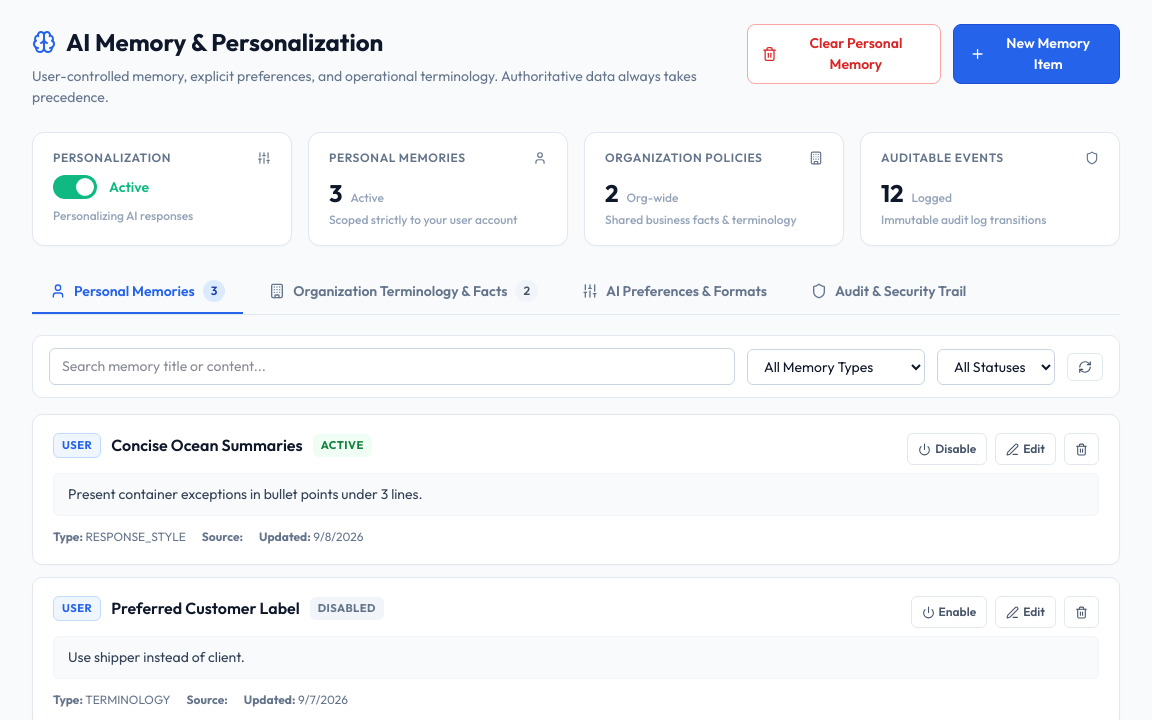
Test: AIMemorySettingsPage Component Tests › allows switching to AI Preferences & Formats tab
expect the heading "Concise Ocean Summaries" is shown: met, box [111,433,303,457]
Click the button "AI Preferences & Formats".
click(674, 292)  # box [564,270,785,314]
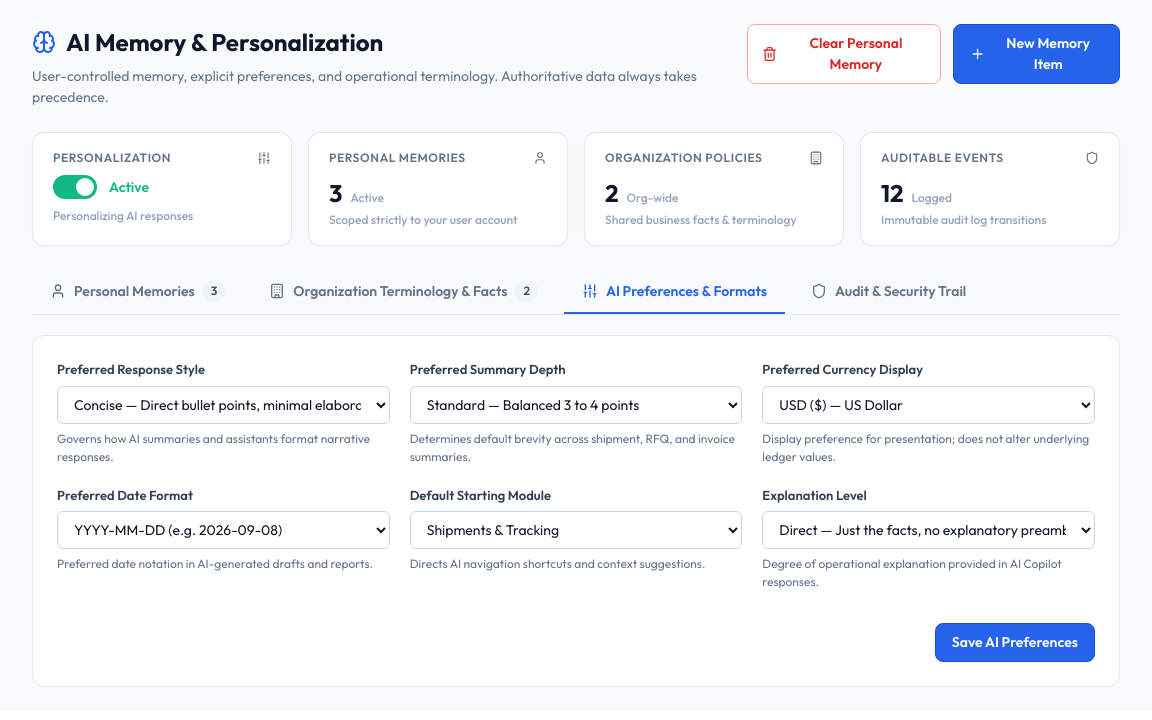
expect the text "Preferred Response Style" is shown: met, box [57,361,205,377]
expect the text "Preferred Summary Depth" is shown: met, box [410,361,566,377]
expect the text "Preferred Currency Display" is shown: met, box [762,361,923,377]
